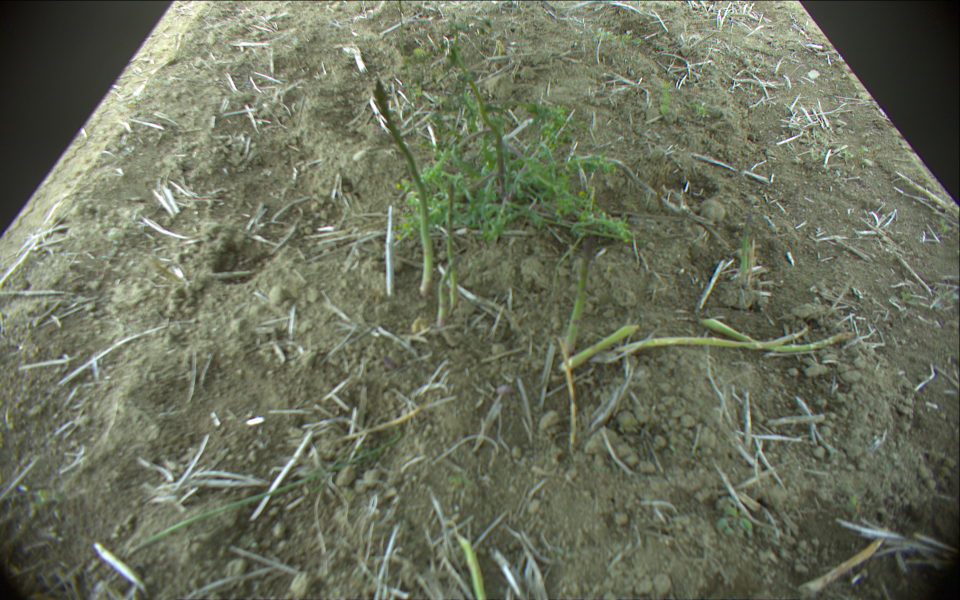aspa: (370, 79, 434, 295), (446, 34, 507, 197), (621, 323, 806, 356), (699, 316, 852, 353), (414, 171, 499, 230), (563, 324, 638, 372), (565, 227, 593, 355), (455, 533, 488, 600), (444, 182, 461, 311), (433, 253, 460, 326), (741, 207, 753, 284)
